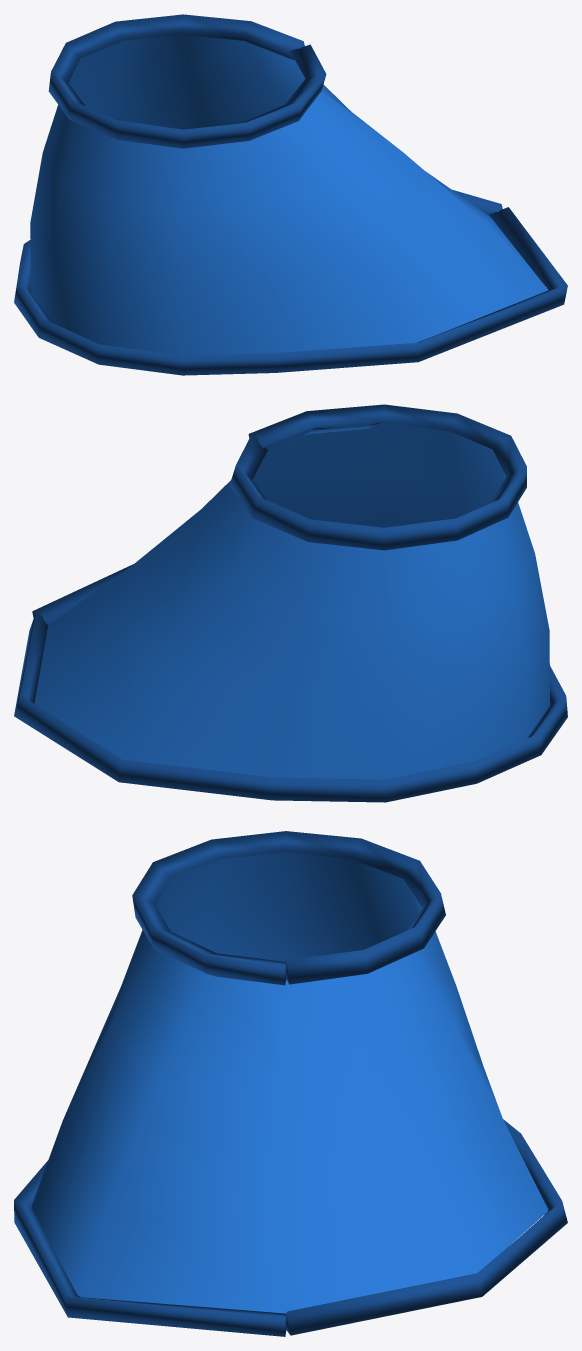
File: cobalt_armor_pauldron.L.glb
The picture shows the model from 3 angles, top to bottom: view 1: azimuth 30°, elevation 25°; view 2: azimuth 150°, elevation 25°; view 3: azimuth 270°, elevation 25°; orthographic projection. The views are drawn at different scales.
Visible parts, largest first — view 1: cobalt_armor_pauldron.L; view 2: cobalt_armor_pauldron.L; view 3: cobalt_armor_pauldron.L.
Part boxes in pixels (x1,y1,x2,y2): cobalt_armor_pauldron.L: (14,14,567,375); cobalt_armor_pauldron.L: (14,404,567,802); cobalt_armor_pauldron.L: (14,831,567,1336).
Size of the model in its own units: 0.3461 by 0.1645 by 0.3104.
